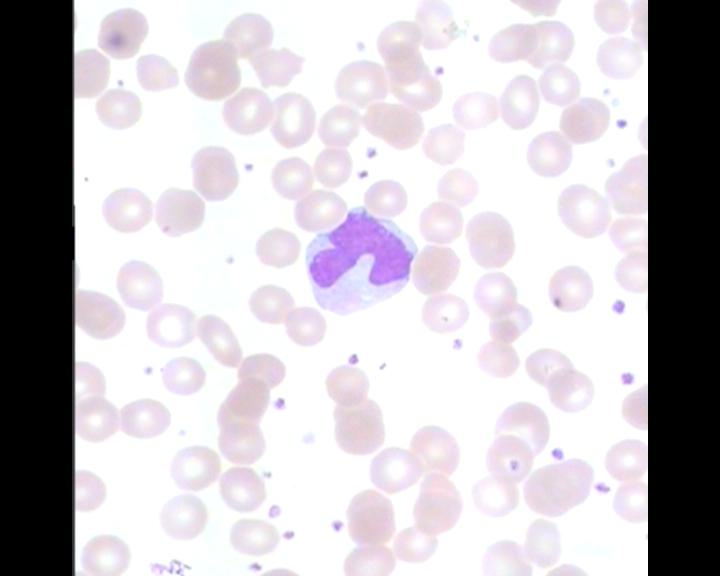mono: (301, 203, 422, 315)
